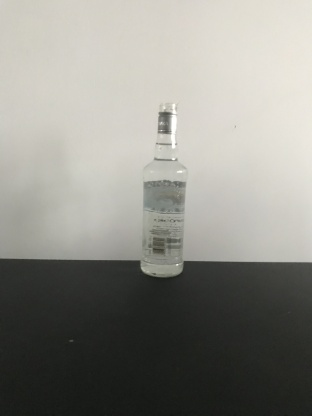nakretka: (155, 99, 179, 135)
